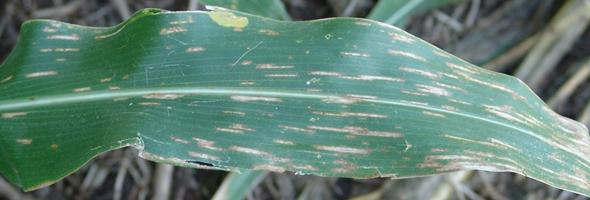Corn leaf blight: (2, 9, 590, 192)
